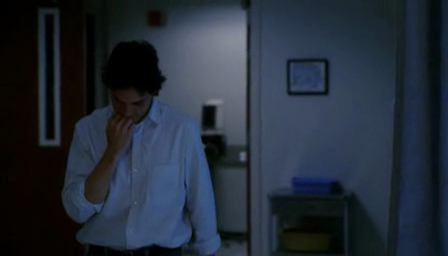face: (111, 90, 150, 123)
ms: (1, 1, 448, 256)
person: (62, 40, 220, 256)
